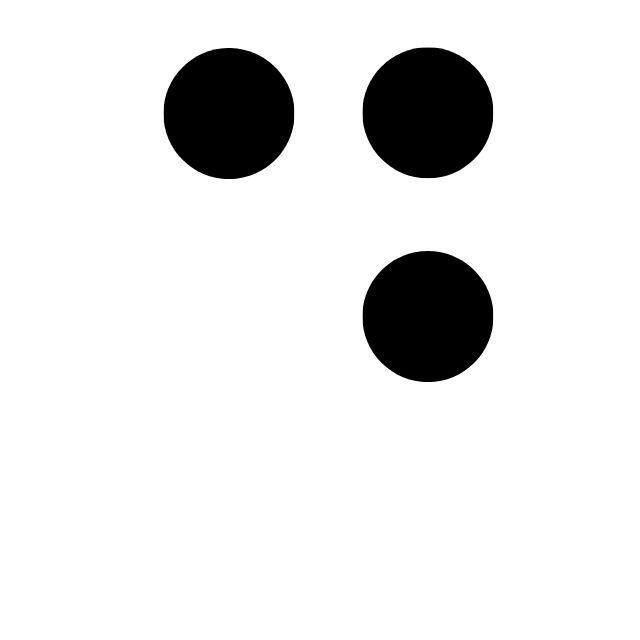d: (162, 47, 495, 544)
